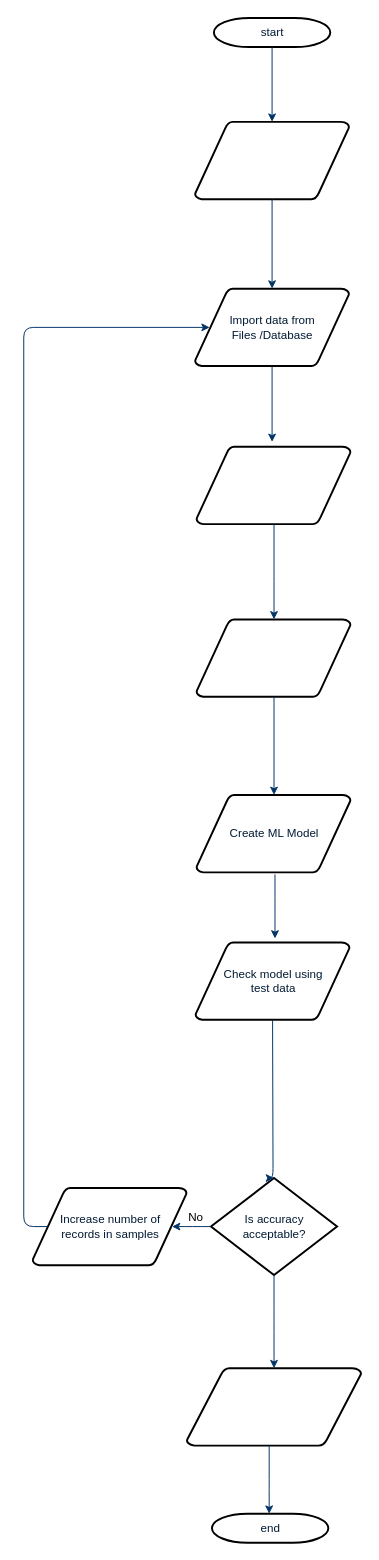
Image size: 379x1560. Some labels were removed from this diagram. Each missing label, with the centre of its shape:
Create Train and test data: the point at 273,657
Load the required Python libraries: the point at 272,160
Plot graphs(if require) or User model to predict: the point at 273,1406
Separate Features and Labels: the point at 273,485
